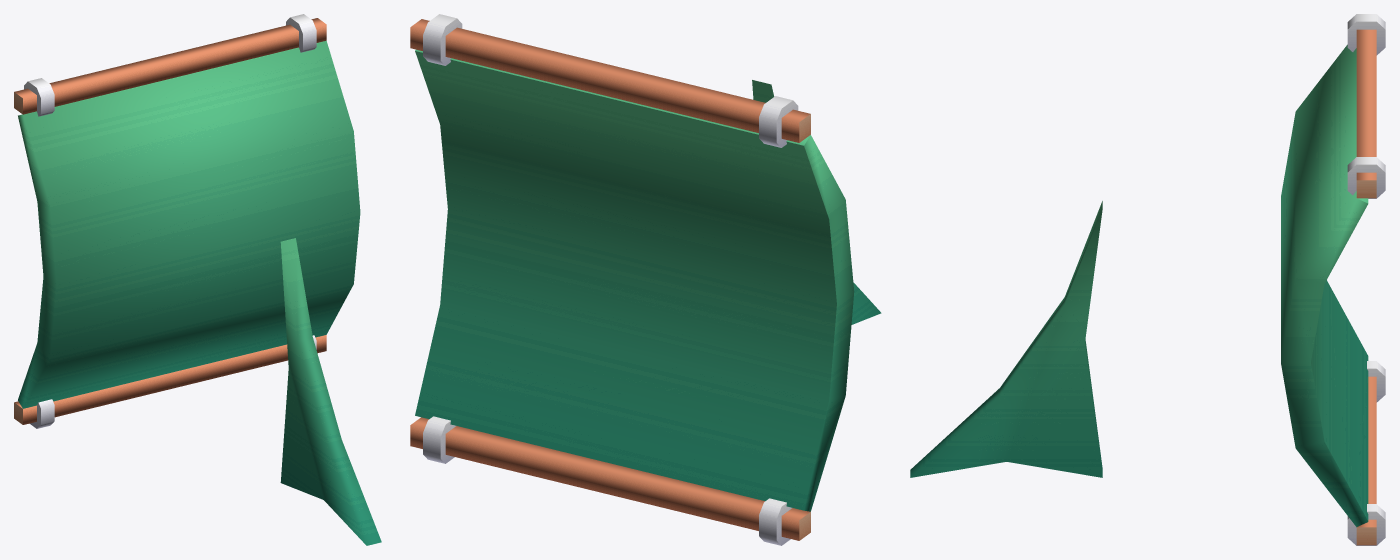
Rendered from sail_green.glb.
The picture shows the model from 3 angles, left to right: view 1: azimuth 30°, elevation 25°; view 2: azimuth 150°, elevation 25°; view 3: azimuth 270°, elevation 25°; orthographic projection. The views are drawn at different scales.
Parts seen in each view (by area): view 1: sail-a_green; view 2: sail-a_green; view 3: sail-a_green.
Boxes of the visible parts, x1,y1,x2,y2 form: sail-a_green: [14, 14, 381, 545]; sail-a_green: [410, 14, 881, 545]; sail-a_green: [910, 14, 1385, 545].
Size of the model in its own units: 4.4 by 4.76 by 5.33.
1 material, 1 textured.
